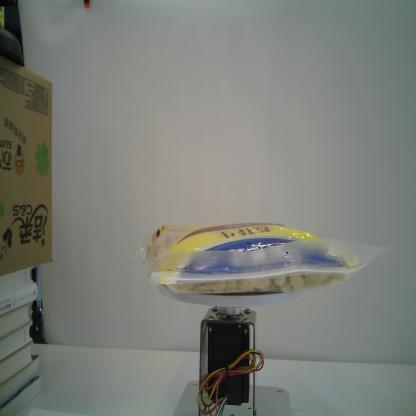Dried Food: (138, 218, 389, 295)
